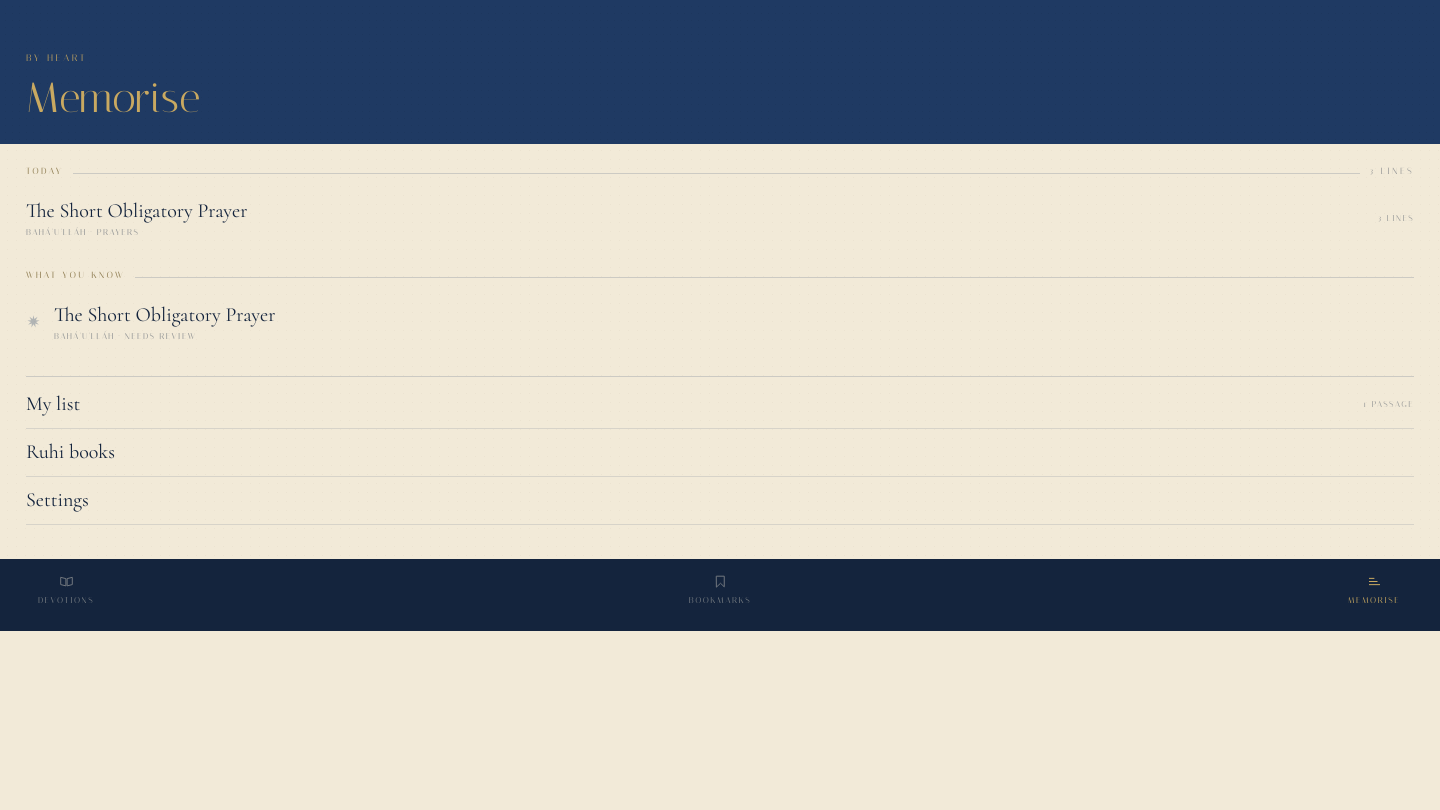
levels 2 and 3, the chip cloze › takes a word out of the line and offers it back as a chip
Expected: the heading "Memorise" is shown, [26,73,201,123]
Click the link "The Short Obligatory Prayer BAHÁ'U'LLÁH · PRAYERS 3 LINES" at [137, 211], box [26,188,1414,248]
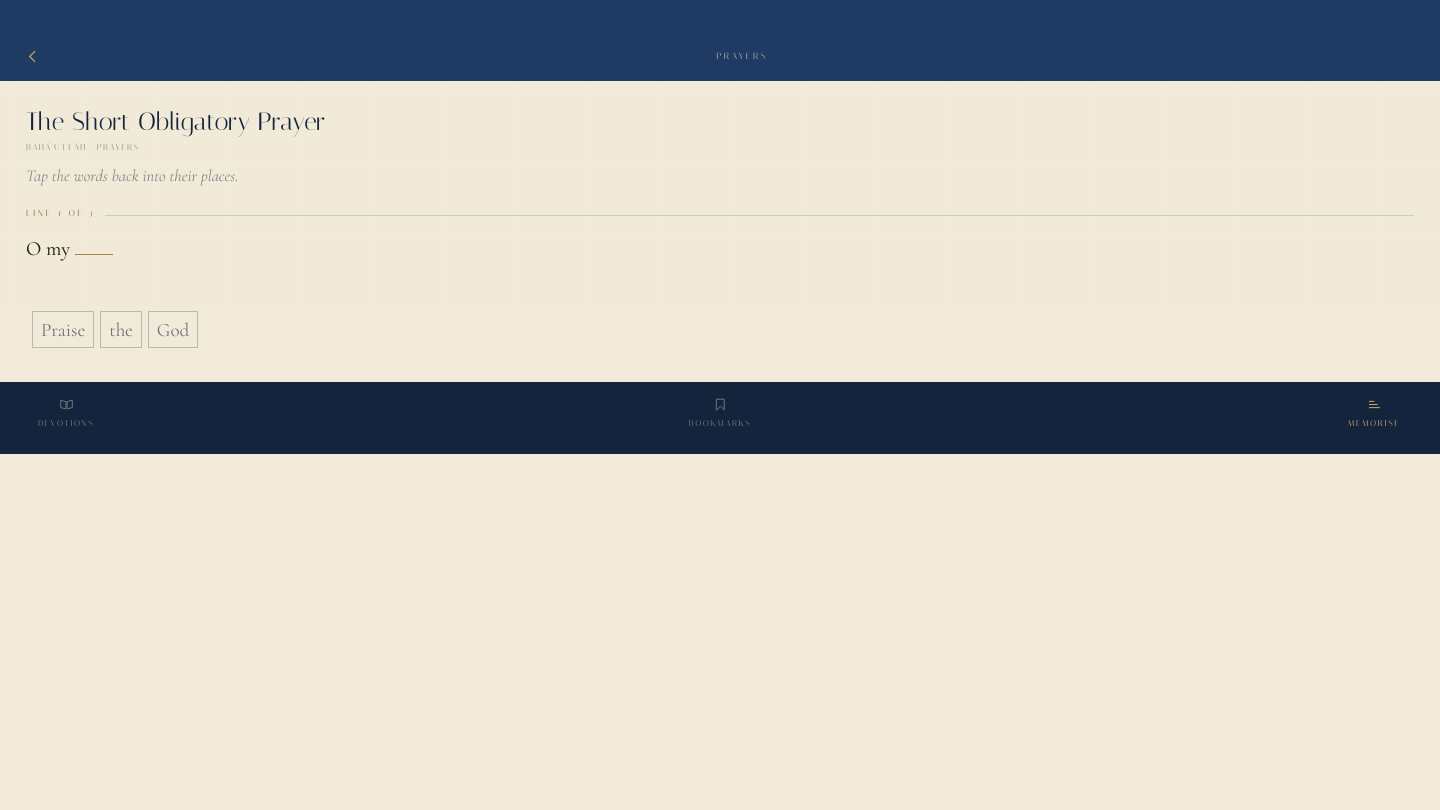
Expected: the element named "Words to choose from" is shown, [32,308,198,352]
Expected: the text "God" is shown, [148,311,198,348]
